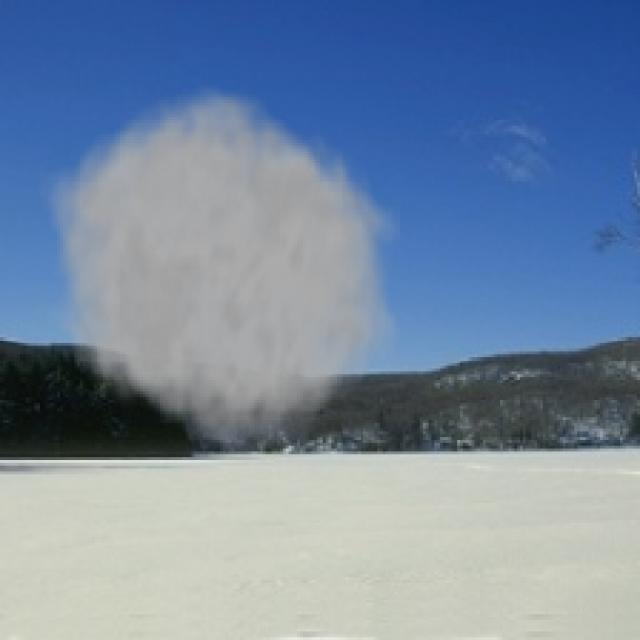smoke: (34, 77, 400, 466)
